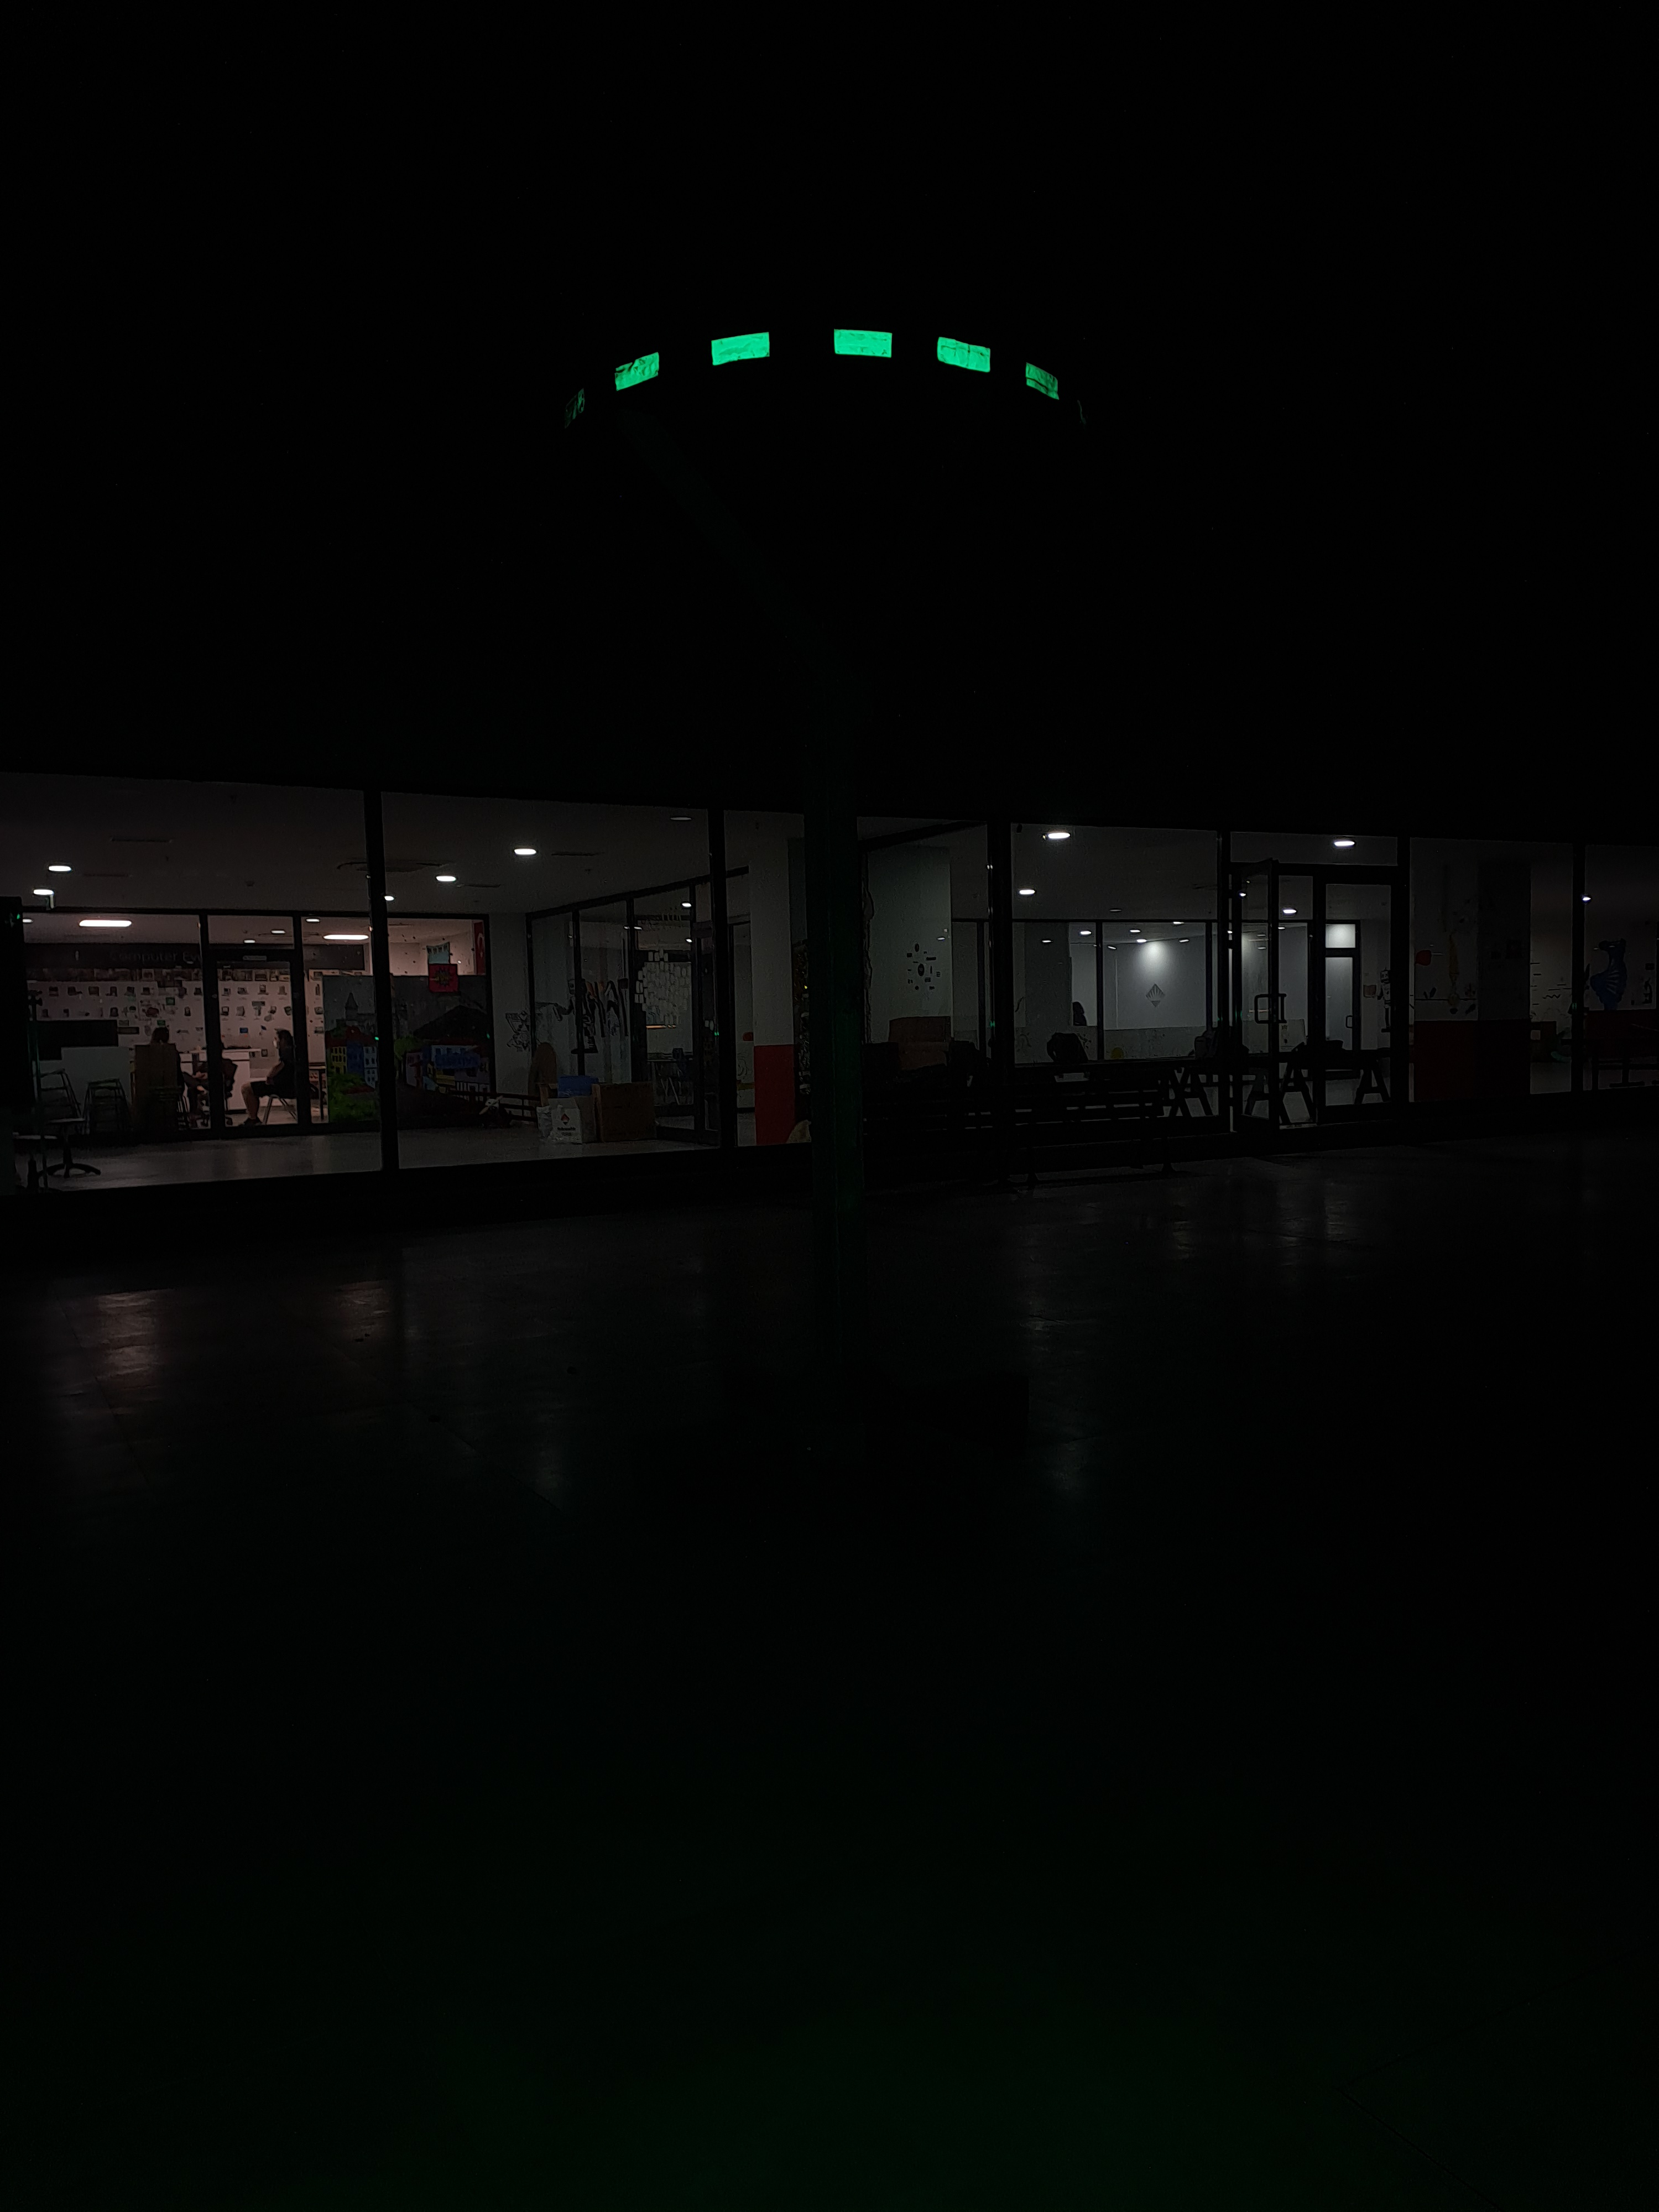hoop: (594, 322, 1066, 428)
